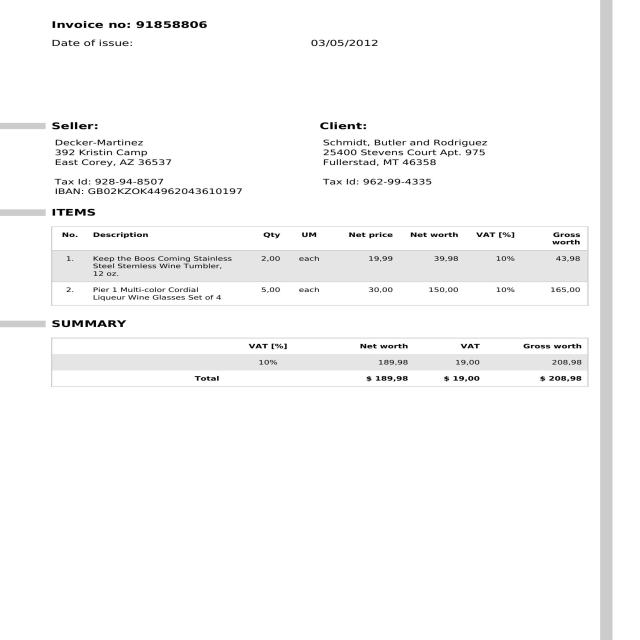customer_address: (320, 148, 515, 170)
customer_name: (322, 136, 497, 148)
invoice_date: (306, 37, 382, 49)
invoice_number: (133, 16, 230, 35)
invoice_subtotal: (355, 371, 423, 385)
invoice_total: (535, 373, 584, 385)
item_description: (83, 252, 235, 308)
item_quantity: (253, 253, 290, 305)
item_total_price: (418, 252, 472, 305)
item_unit_price: (364, 251, 396, 305)
supplier_address: (55, 148, 252, 172)
supplier_name: (53, 137, 210, 147)
tax_amount: (434, 371, 486, 384)
tax_rate: (252, 354, 283, 369)
